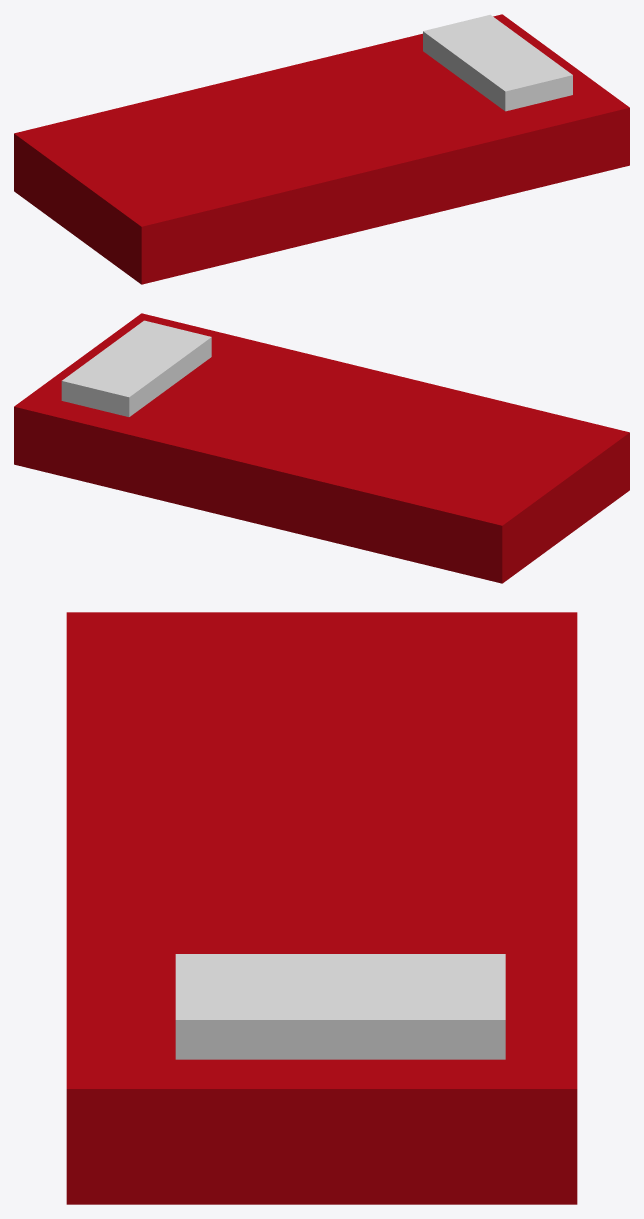
Rendered from Bed.fbx.
3 renders of one model, top to bottom at view 1: azimuth 30°, elevation 25°; view 2: azimuth 150°, elevation 25°; view 3: azimuth 270°, elevation 25°, orthographic. The views are drawn at different scales.
Parts seen in each view (by area): view 1: Bed, Pillow; view 2: Bed, Pillow; view 3: Bed, Pillow.
Part boxes in pixels (left/top/right/bottom): Bed: left=14, top=14, right=629, bottom=284; Pillow: left=423, top=14, right=572, bottom=111; Bed: left=14, top=313, right=629, bottom=583; Pillow: left=61, top=320, right=211, bottom=416; Bed: left=66, top=612, right=577, bottom=1204; Pillow: left=175, top=954, right=505, bottom=1059.
Bounding box in the file's own units: 6.84 × 3.09 × 1.04.
